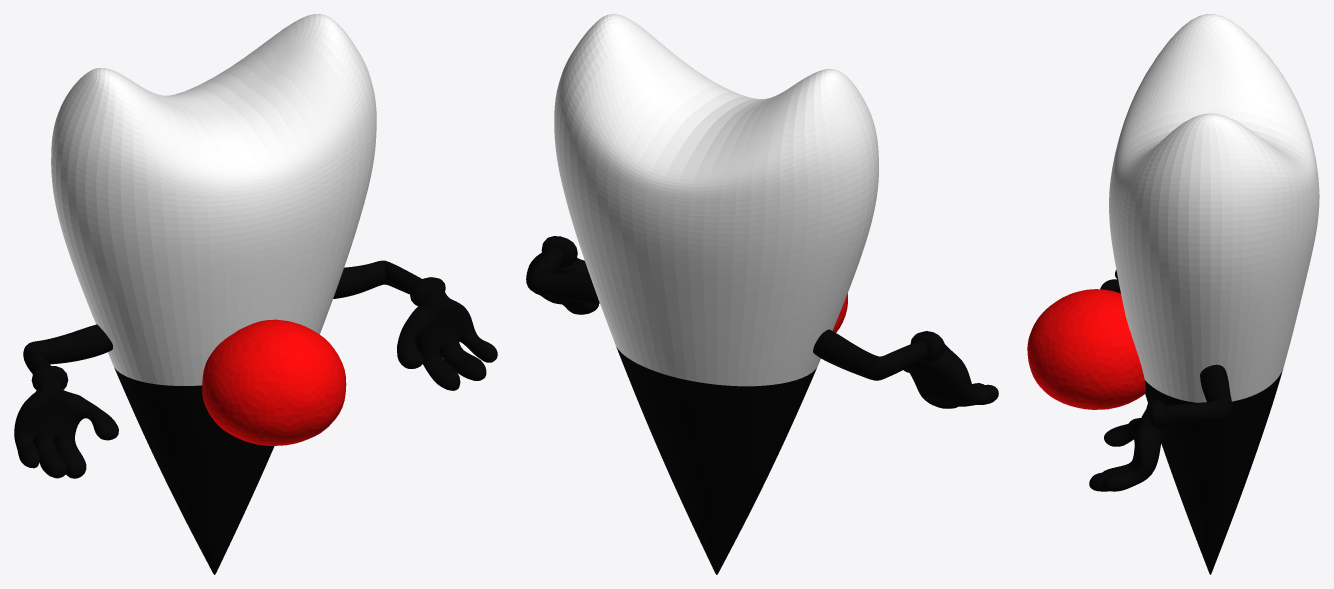
Rendered from java-dukezombie015.obj.
3 renders of one model, left to right at view 1: azimuth 30°, elevation 25°; view 2: azimuth 150°, elevation 25°; view 3: azimuth 270°, elevation 25°, orthographic. The views are drawn at different scales.
Parts seen in each view (by area): view 1: javadude, javadude_hands, javadude_nase; view 2: javadude, javadude_hands; view 3: javadude, javadude_nase, javadude_hands.
Boxes of the visible parts, x1=… form: javadude: x1=51, y1=14, x2=376, y2=574; javadude_hands: x1=14, y1=260, x2=497, y2=478; javadude_nase: x1=202, y1=319, x2=346, y2=445; javadude: x1=554, y1=14, x2=878, y2=574; javadude_hands: x1=526, y1=236, x2=998, y2=408; javadude: x1=1109, y1=14, x2=1319, y2=574; javadude_nase: x1=1027, y1=289, x2=1145, y2=409; javadude_hands: x1=1089, y1=270, x2=1232, y2=491.
Bounding box in the file's own units: 3.74 × 4.08 × 2.12.
